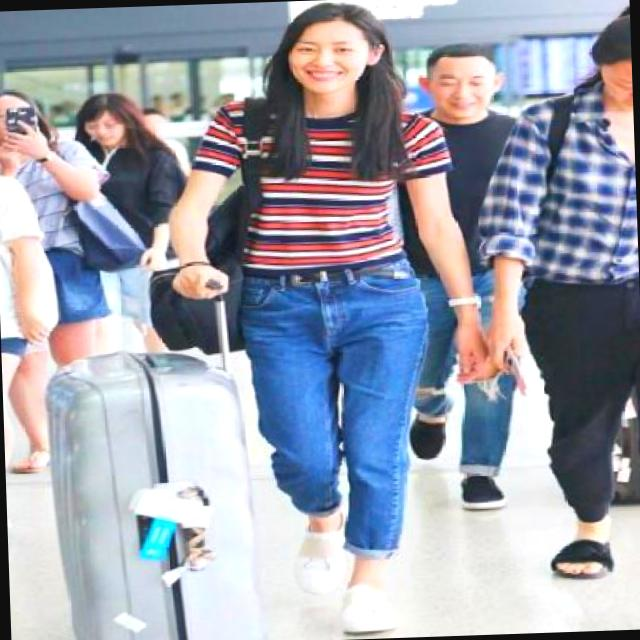Person: (187, 0, 448, 615)
